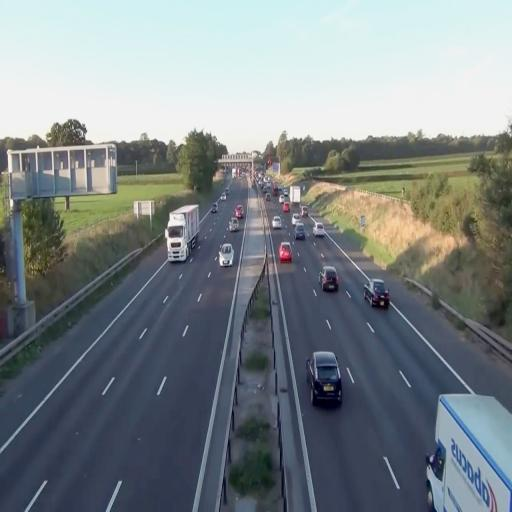vehicle: (425, 390, 512, 510), (165, 204, 200, 262), (306, 351, 342, 403), (367, 279, 390, 310), (320, 265, 339, 294), (218, 242, 234, 266), (362, 278, 374, 307), (278, 242, 292, 264), (294, 222, 307, 242), (235, 204, 244, 224)
